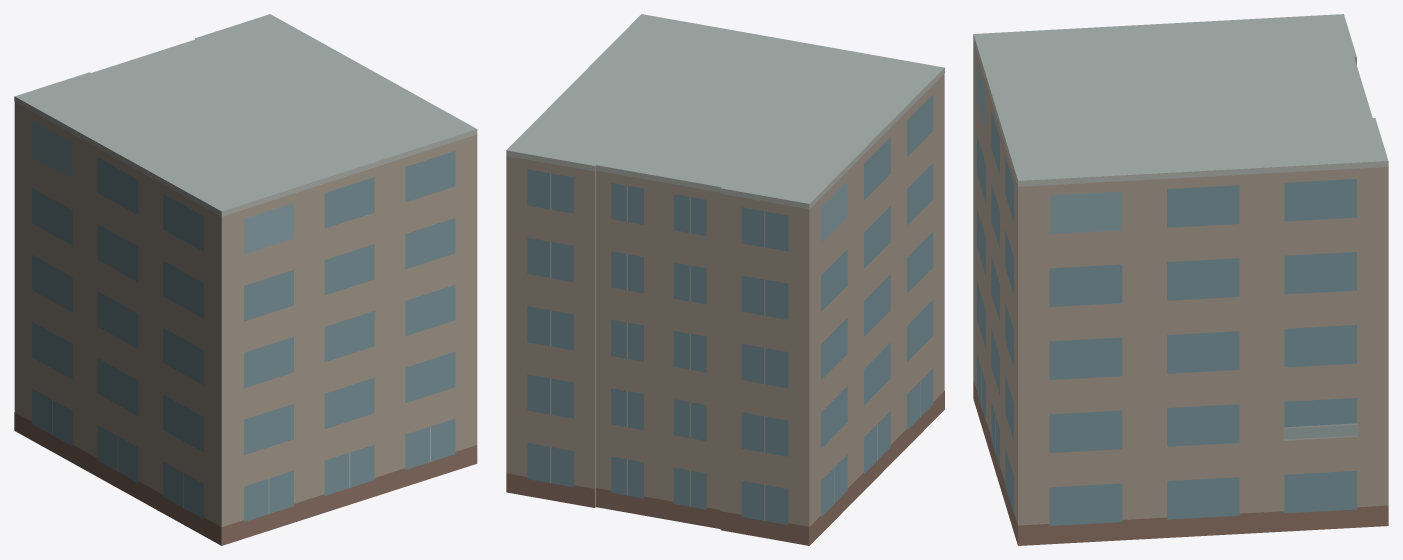
File: survey-upis-32599949.glb
The picture shows the model from 3 angles, left to right: view 1: azimuth 30°, elevation 25°; view 2: azimuth 150°, elevation 25°; view 3: azimuth 270°, elevation 25°; orthographic projection. The views are drawn at different scales.
Visible parts, largest first — view 1: survey-upis-32599949.tmp; view 2: survey-upis-32599949.tmp; view 3: survey-upis-32599949.tmp.
Boxes of the visible parts, box(x1,y1,x2,y2) form: survey-upis-32599949.tmp: box(14, 14, 477, 545); survey-upis-32599949.tmp: box(506, 14, 944, 545); survey-upis-32599949.tmp: box(973, 14, 1388, 545).
Size of the model in its own units: 14.97 by 15.25 by 15.73.
